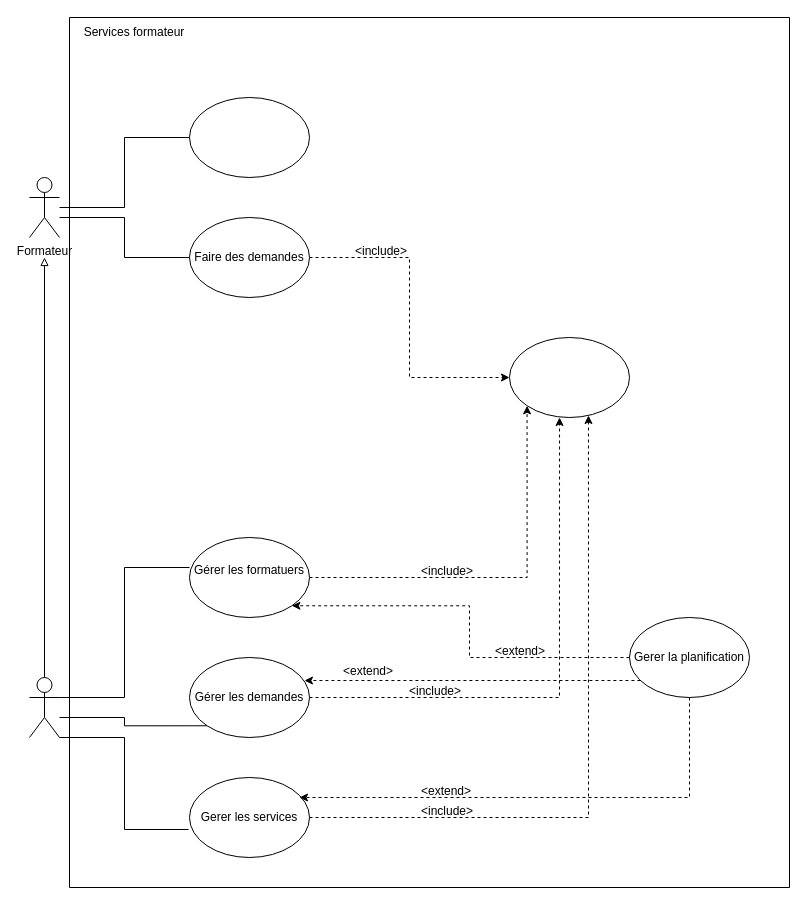
The diagram is 807 pixels wide and 905 high, and some of its shapes have lost their labels. The shapes that lost their labels are listed below. From the top down, each one's centre as x and y in pixels, then its label:
At pixel 249 137: "Afficher et exporter le planning".
At pixel 569 377: "S'authentifier".
At pixel 44 707: "Direction".
